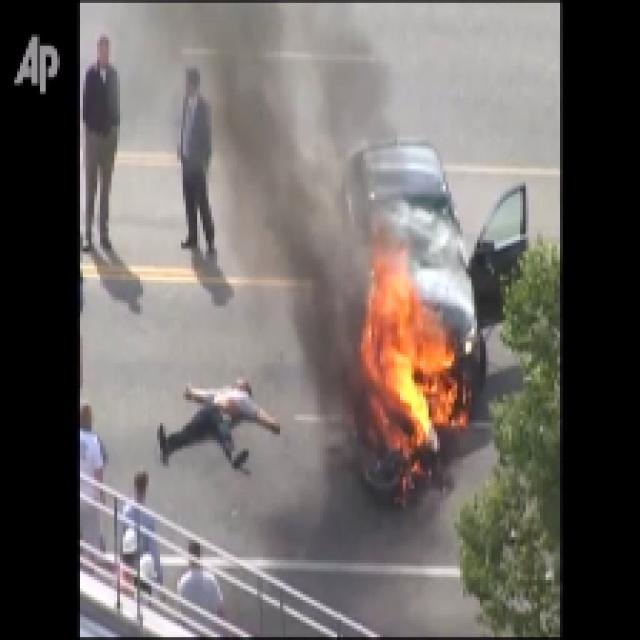Fire: (360, 240, 466, 454)
Smoke: (214, 3, 366, 383)
